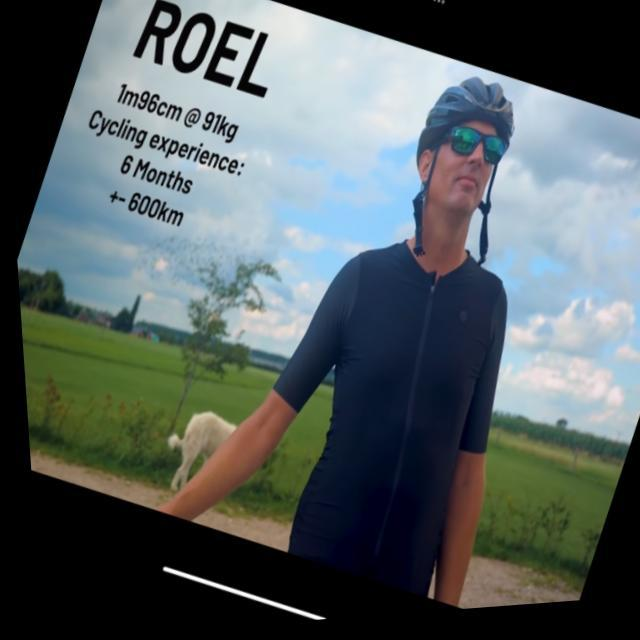Helmet: (408, 59, 525, 238)
